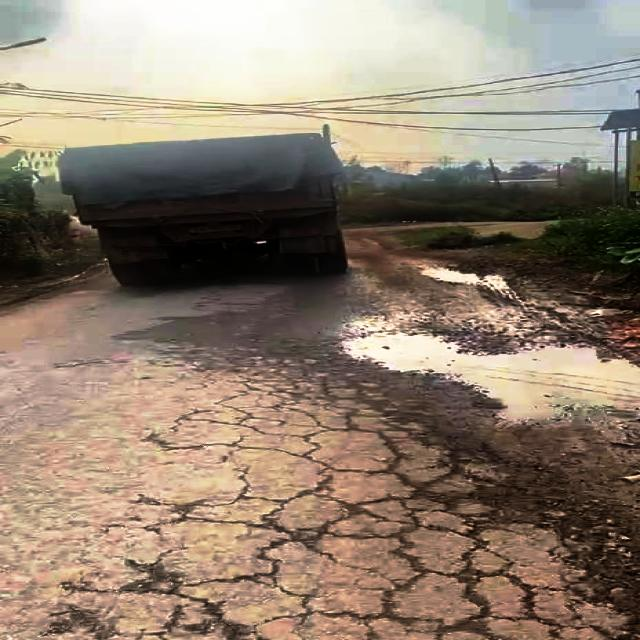pothole: (329, 324, 640, 426)
